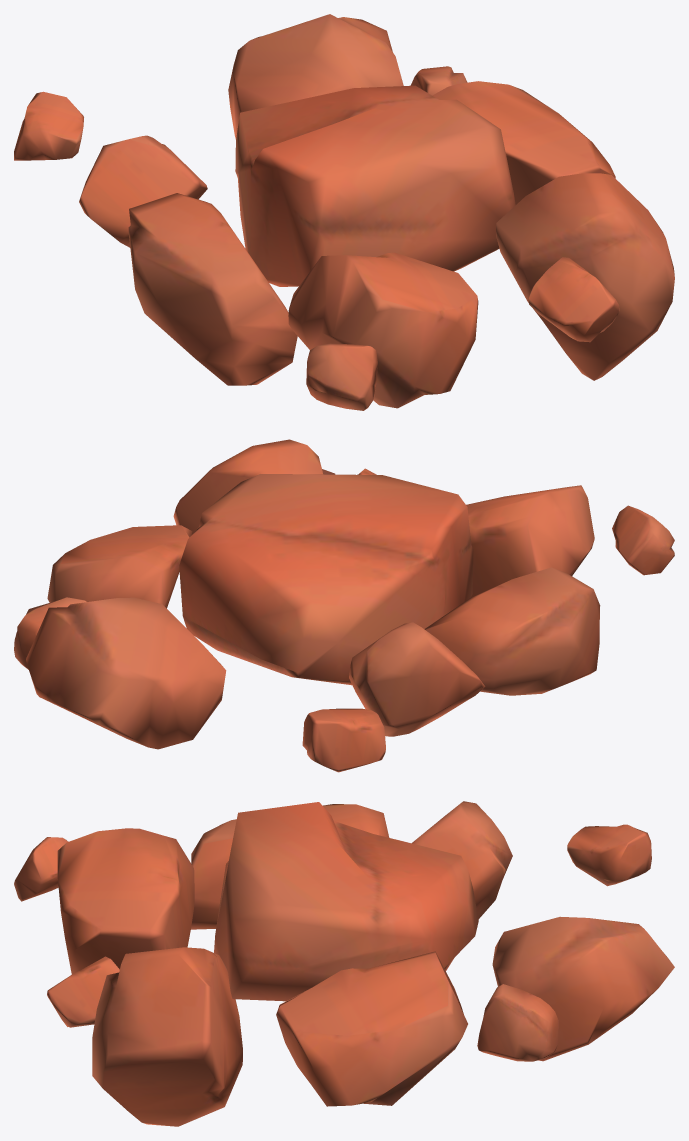
Rendered from Demo_shitouxiao.FBX.
3 views of the same model, one above another, from view 1: azimuth 30°, elevation 25°; view 2: azimuth 150°, elevation 25°; view 3: azimuth 270°, elevation 25° (orthographic). The views are drawn at different scales.
Visible parts, largest first — view 1: Demo_shitouxiao; view 2: Demo_shitouxiao; view 3: Demo_shitouxiao.
Boxes of the visible parts, x1,y1,x2,y2 form: Demo_shitouxiao: (14,14,674,410); Demo_shitouxiao: (14,439,674,772); Demo_shitouxiao: (14,801,674,1126).
Size of the model in its own units: 1.87 by 0.8214 by 2.32.
